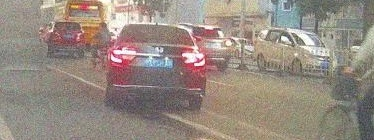L_light: (111, 49, 137, 64)
R_light: (181, 52, 206, 67)
T_light: (151, 26, 167, 29)
day-right: (106, 23, 207, 109)
